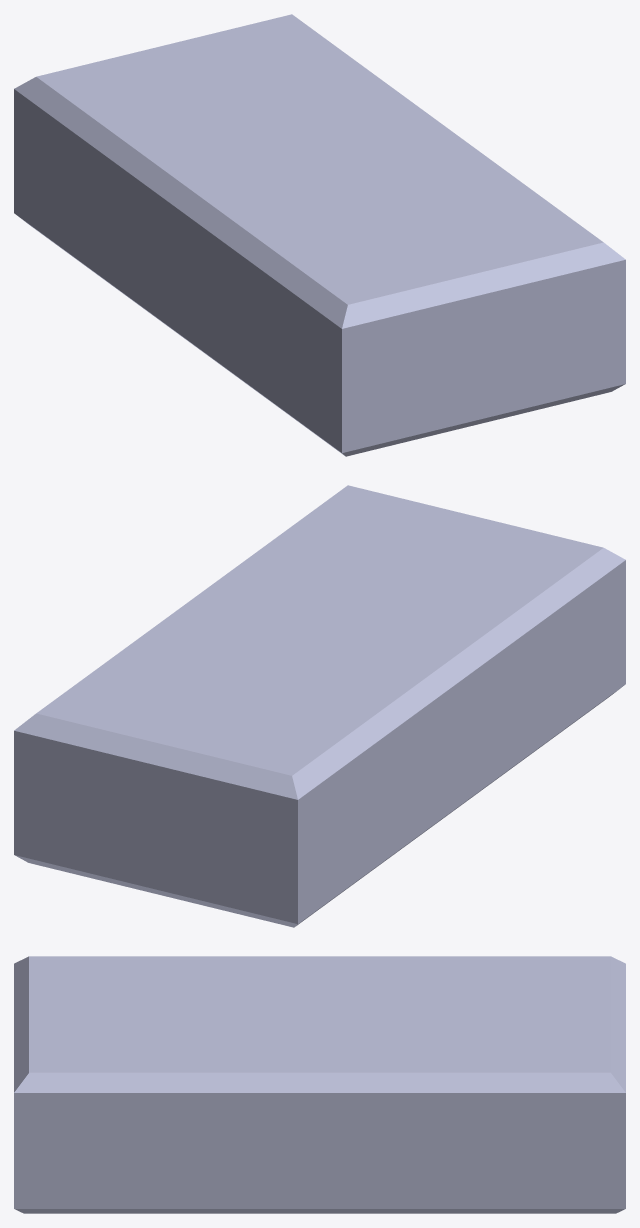
File: RockBed.fbx
3 views of the same model, one above another, from view 1: azimuth 30°, elevation 25°; view 2: azimuth 150°, elevation 25°; view 3: azimuth 270°, elevation 25° (orthographic). The views are drawn at different scales.
Parts seen in each view (by area): view 1: Cube; view 2: Cube; view 3: Cube.
Boxes of the visible parts, x1=… form: Cube: x1=14, y1=14, x2=625, y2=456; Cube: x1=14, y1=485, x2=625, y2=927; Cube: x1=14, y1=956, x2=625, y2=1213.
Bounding box in the file's own units: 400 × 200 × 800.
